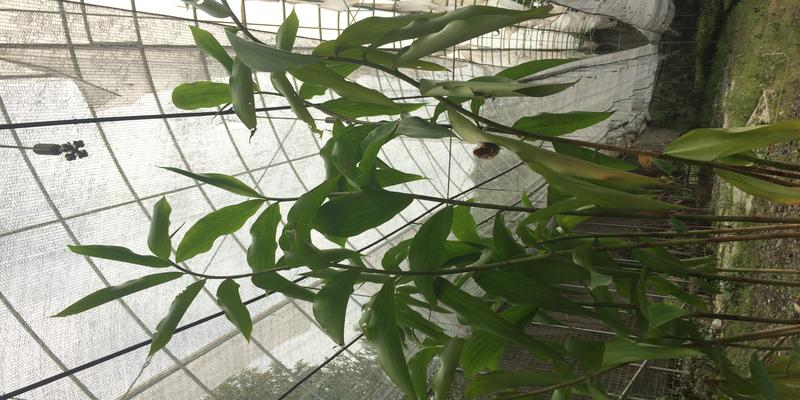Insulin: (226, 47, 786, 378), (224, 45, 784, 376)
